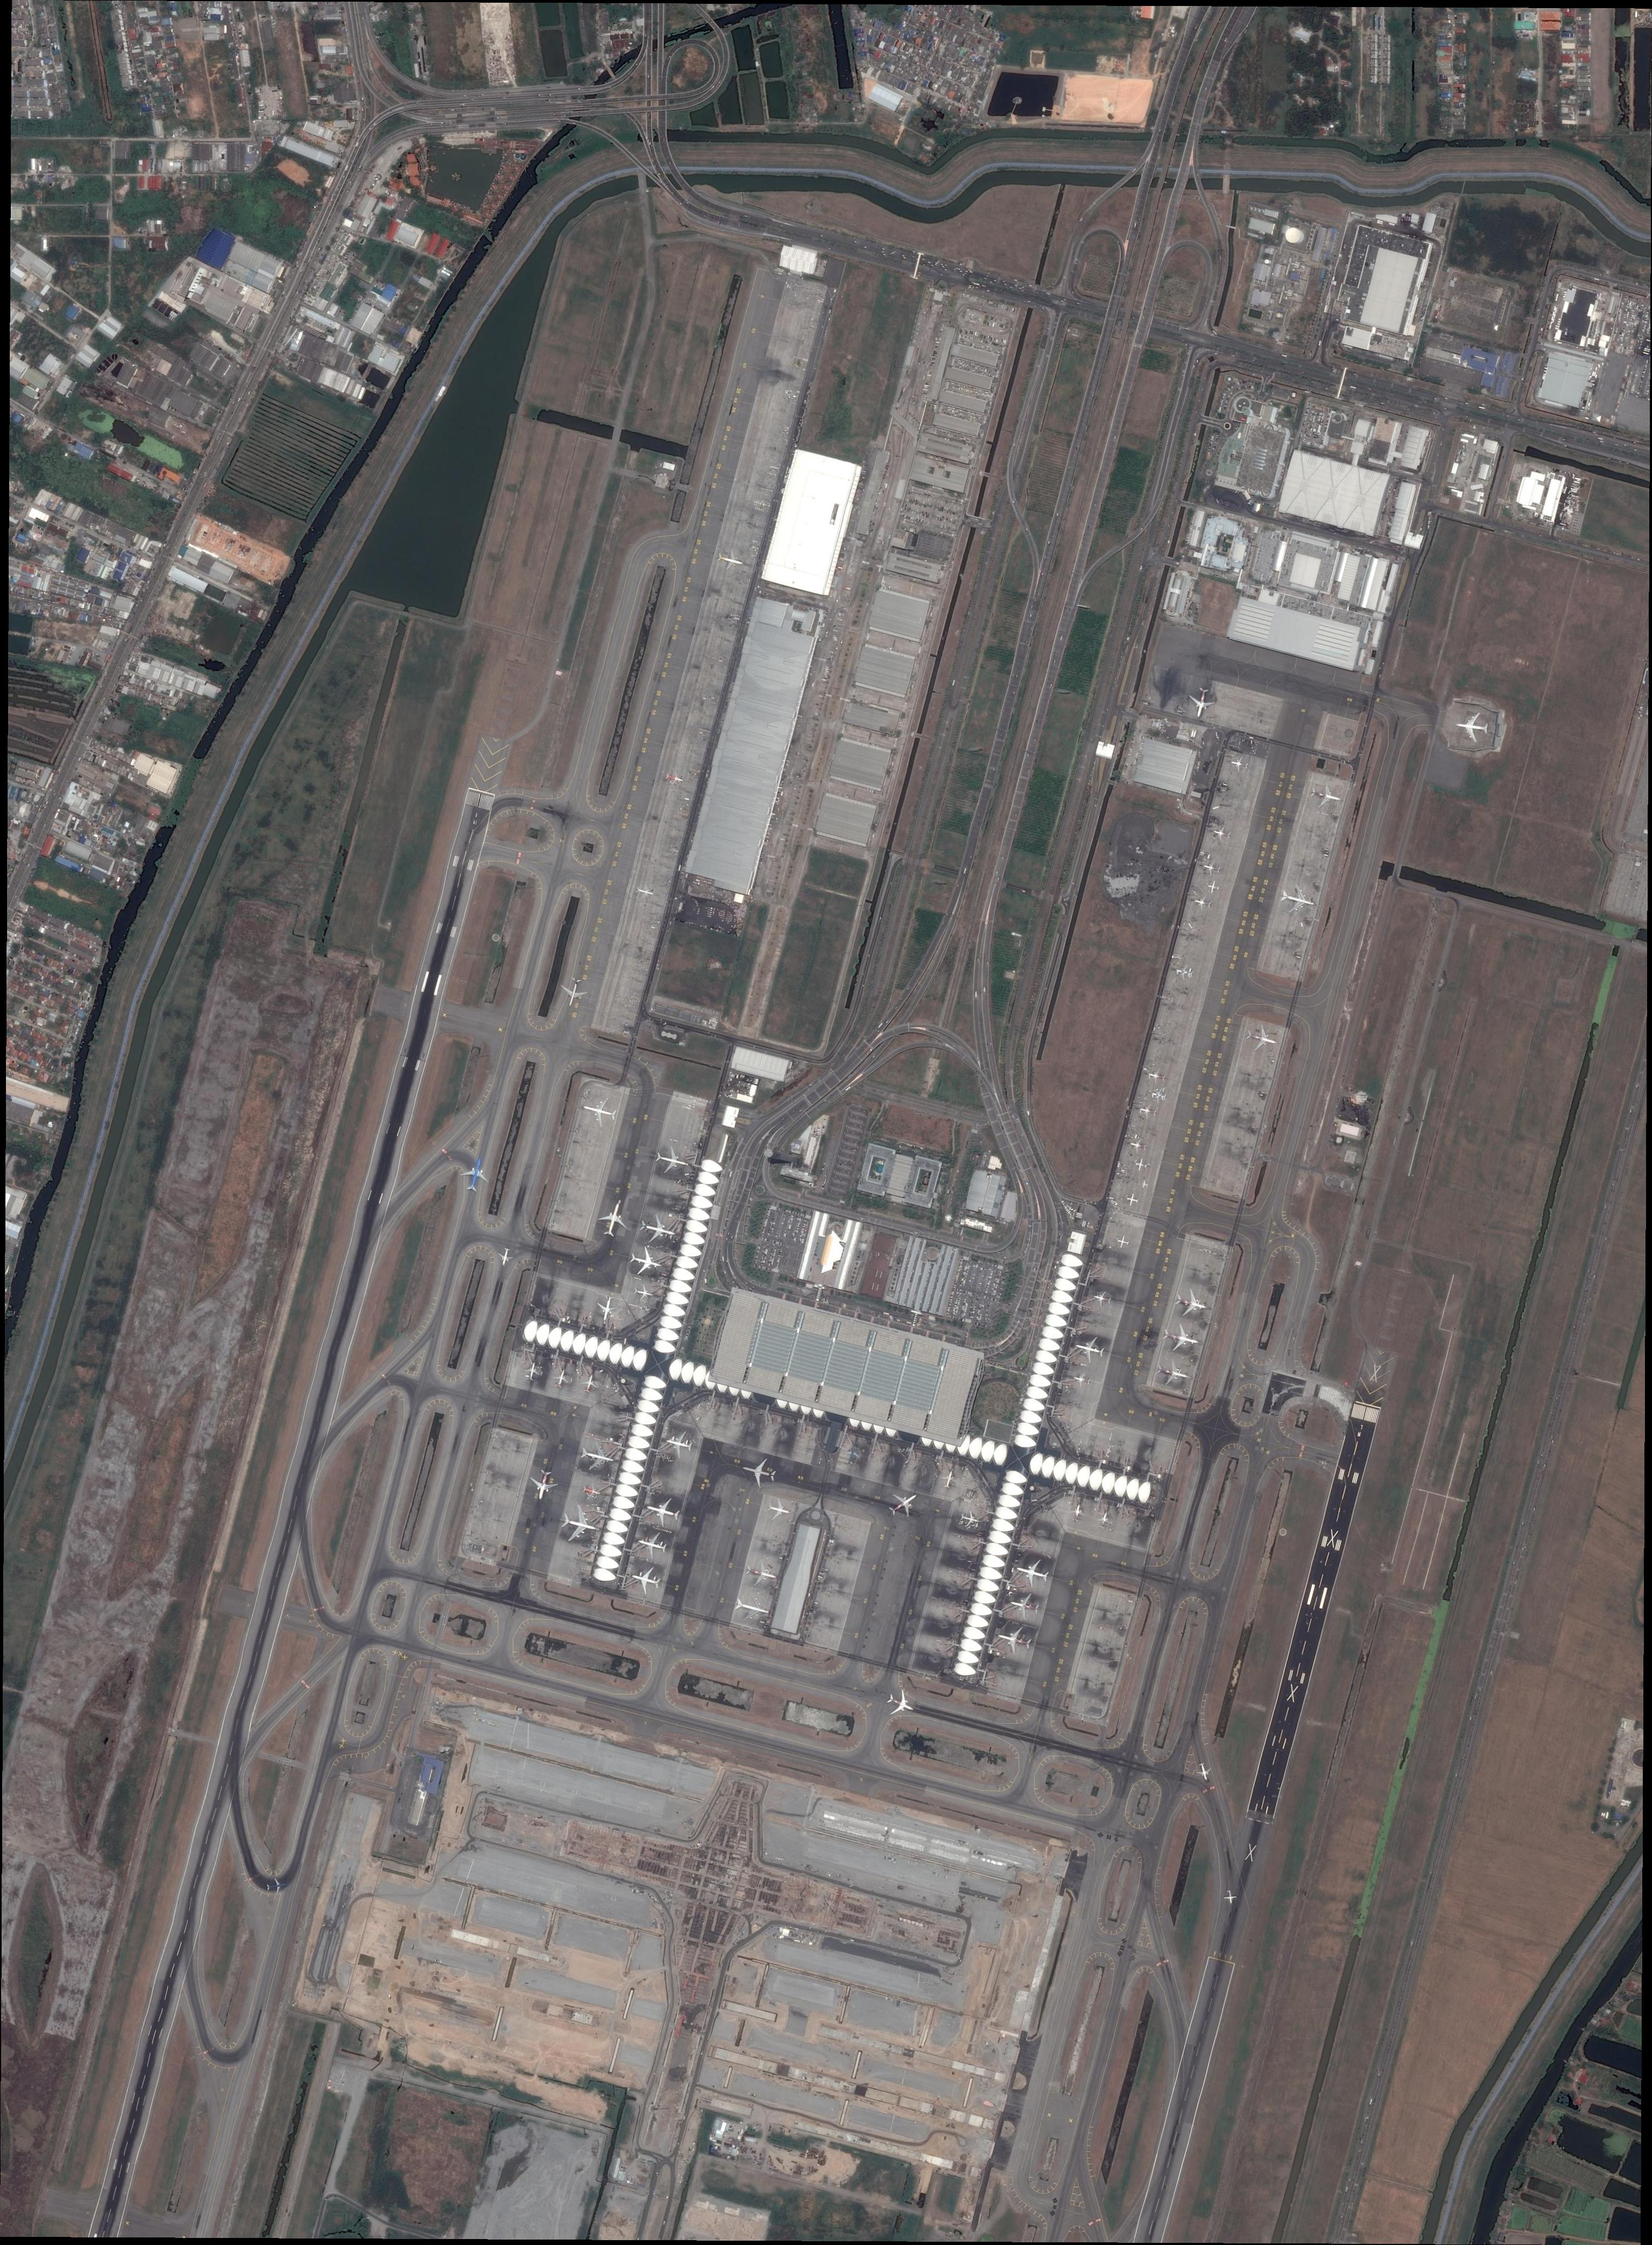plane: (556, 1501, 601, 1546), (641, 1492, 683, 1532), (732, 1588, 774, 1628), (1161, 1319, 1204, 1358), (884, 1485, 925, 1523), (577, 1438, 619, 1476), (636, 1211, 680, 1248), (594, 1199, 633, 1239), (1012, 1551, 1051, 1591), (739, 1454, 779, 1490), (995, 1621, 1035, 1658), (1277, 882, 1317, 919), (652, 1143, 692, 1178), (579, 1095, 619, 1129), (1154, 1356, 1194, 1391), (627, 1562, 664, 1598), (627, 1245, 666, 1279), (458, 1156, 493, 1194), (1173, 1286, 1211, 1321), (634, 1527, 671, 1562), (526, 1466, 561, 1502), (1453, 709, 1490, 744), (1183, 685, 1218, 722), (1072, 1332, 1108, 1367), (1242, 1021, 1281, 1055), (556, 976, 591, 1011), (742, 1558, 779, 1591), (662, 1426, 695, 1462), (882, 1687, 918, 1720), (1309, 779, 1344, 812), (1007, 1590, 1042, 1623), (765, 1496, 795, 1523), (594, 1293, 622, 1323), (716, 549, 746, 573), (958, 1508, 983, 1530), (842, 1443, 864, 1466), (1211, 823, 1234, 844), (579, 1373, 601, 1394), (939, 1468, 960, 1490), (1194, 1760, 1215, 1783), (265, 1877, 291, 1895), (582, 1482, 603, 1502), (495, 1246, 516, 1267), (1192, 892, 1213, 913), (1068, 1502, 1089, 1523), (1229, 755, 1251, 774), (633, 1283, 655, 1302), (552, 1367, 572, 1389), (1201, 859, 1223, 878), (664, 769, 685, 788), (523, 1361, 542, 1382), (1175, 964, 1195, 983), (1138, 1102, 1159, 1121), (1127, 1136, 1148, 1156), (1093, 1288, 1114, 1307), (634, 884, 657, 901), (1148, 1067, 1168, 1086), (1150, 1086, 1169, 1105), (1073, 1370, 1093, 1389), (1096, 1509, 1114, 1530), (1206, 878, 1222, 894), (1115, 1234, 1131, 1250), (1126, 1190, 1140, 1208), (1134, 1157, 1148, 1173), (1222, 1889, 1237, 1903), (1140, 1180, 1150, 1189)
